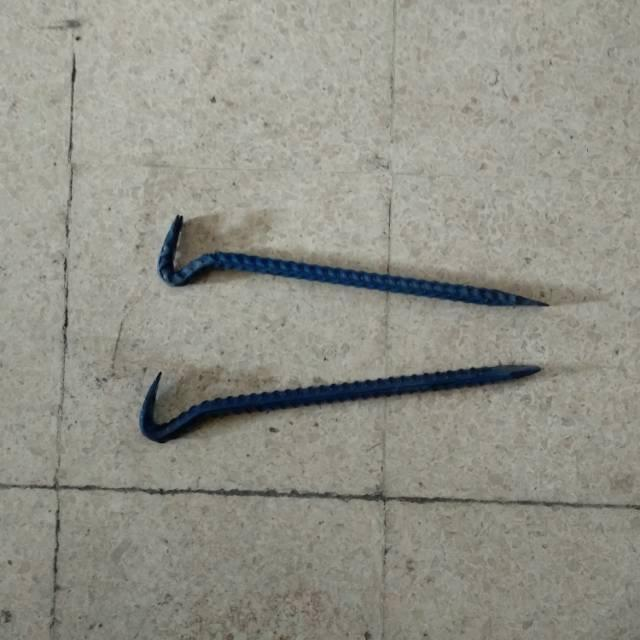Linggis: (140, 204, 564, 324), (121, 357, 551, 448)
